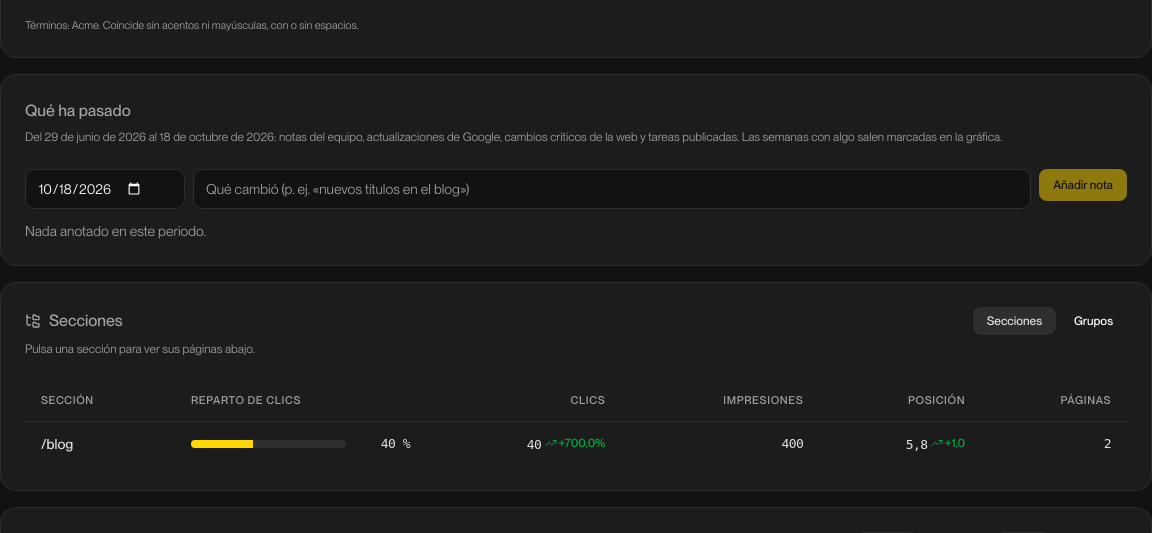
Test: SeoControlTab empty states › una nota se añade desde la tarjeta
The image size is (1152, 533).
(page scrolled)
Type "Nuevos títulos" into the field named "Nota" at (612, 189), box 193,169 -> 1031,209
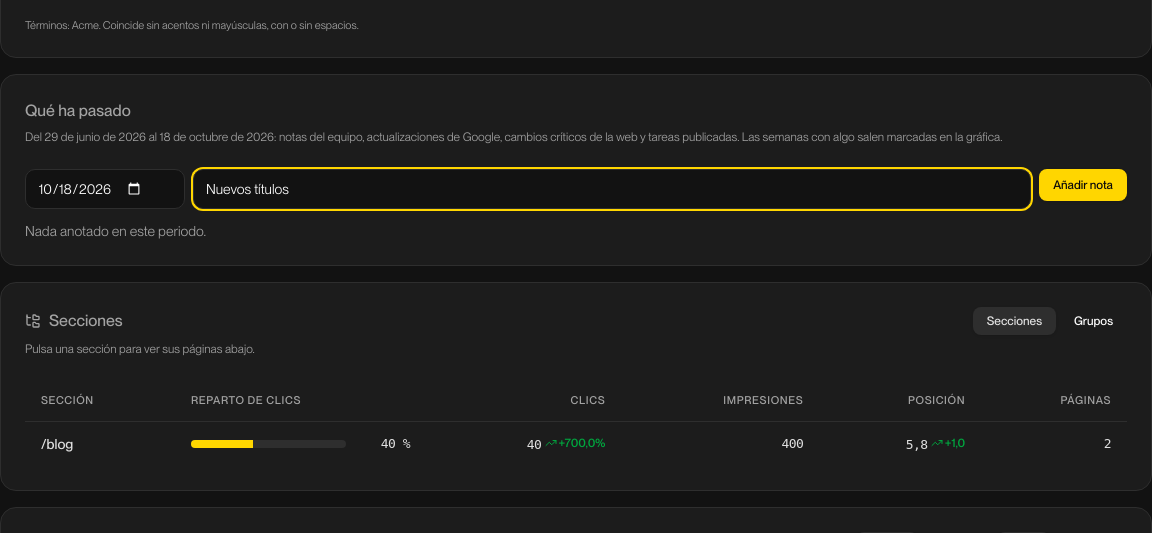
Expected: the button "Añadir nota" is enabled, 1039,169 -> 1127,201
